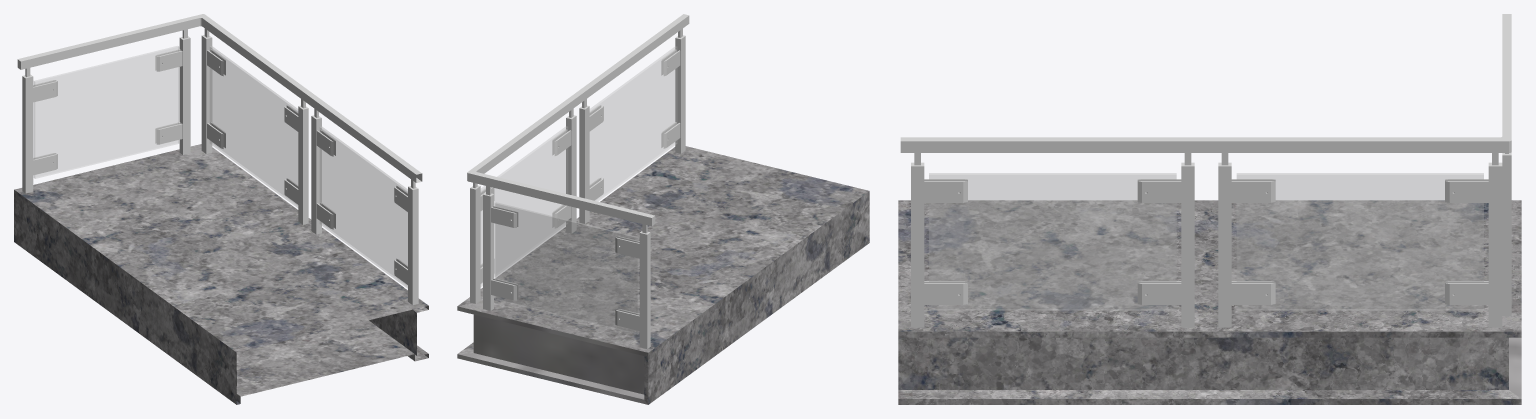
File: railing.glb
3 renders of one model, left to right at view 1: azimuth 30°, elevation 25°; view 2: azimuth 150°, elevation 25°; view 3: azimuth 270°, elevation 25°, orthographic. The views are drawn at different scales.
Visible parts, largest first — view 1: Cube.002; view 2: Cube.002; view 3: Cube.002.
Boxes of the visible parts, x1,y1,x2,y2 form: Cube.002: (14,14,428,404); Cube.002: (457,14,869,404); Cube.002: (898,14,1521,404).
Size of the model in its own units: 2 by 1.84 by 4.01.
Materials: 3 (1 with a texture image).
